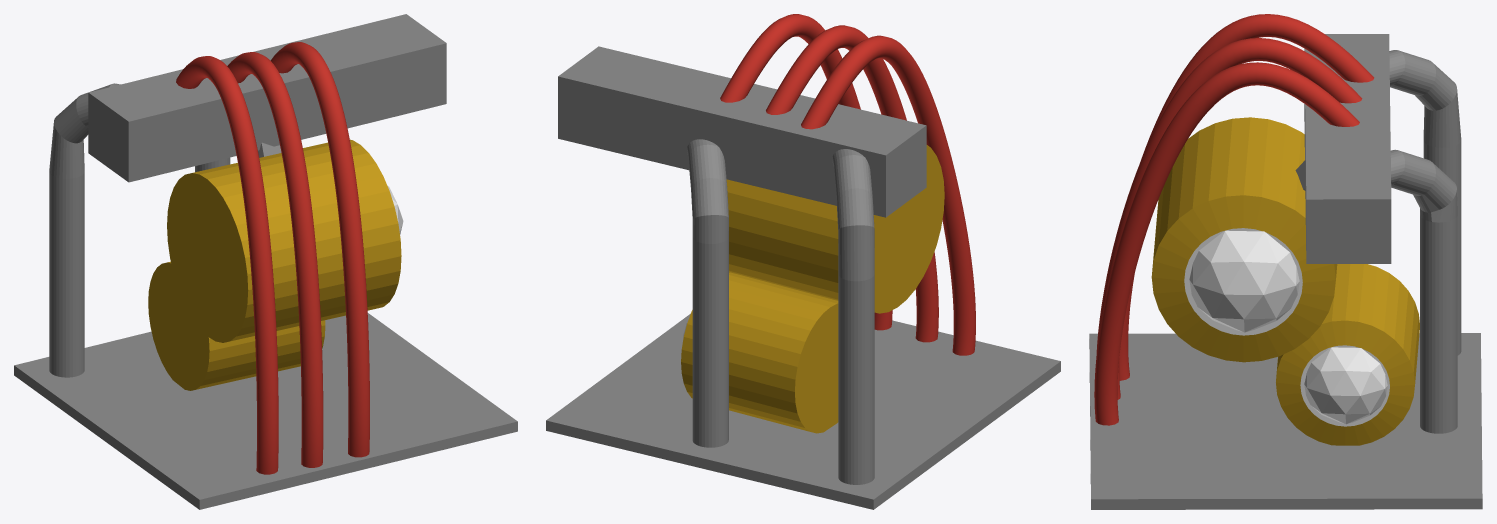
File: PowerGenlevel3.fbx
The picture shows the model from 3 angles, left to right: view 1: azimuth 30°, elevation 25°; view 2: azimuth 150°, elevation 25°; view 3: azimuth 270°, elevation 25°; orthographic projection. The views are drawn at different scales.
Parts seen in each view (by area): view 1: Cube, Cube.001, Cylinder.001, NurbsPath.002, NurbsPath, NurbsPath.001, Cylinder; view 2: Cube, Cube.001, Cylinder.001, Cylinder, NurbsPath.002, NurbsPath.001, NurbsPath; view 3: Cube, Cylinder.001, Cylinder, Cube.001, NurbsPath, NurbsPath.001, NurbsPath.002.
Boxes of the visible parts, x1,y1,x2,y2 form: Cube: [14, 83, 517, 509]; Cube.001: [88, 14, 446, 182]; Cylinder.001: [167, 139, 403, 342]; NurbsPath.002: [176, 56, 278, 474]; NurbsPath: [270, 42, 369, 457]; NurbsPath.001: [227, 52, 323, 467]; Cylinder: [148, 261, 325, 390]; Cube: [546, 139, 1060, 509]; Cube.001: [558, 46, 926, 217]; Cylinder.001: [726, 145, 944, 313]; Cylinder: [681, 272, 838, 433]; NurbsPath.002: [801, 35, 975, 355]; NurbsPath.001: [766, 25, 938, 342]; NurbsPath: [720, 14, 892, 330]; Cube: [1089, 50, 1482, 509]; Cylinder.001: [1151, 117, 1337, 362]; Cylinder: [1276, 264, 1419, 445]; Cube.001: [1304, 34, 1391, 263]; NurbsPath: [1094, 62, 1359, 425]; NurbsPath.001: [1096, 38, 1362, 399]; NurbsPath.002: [1119, 14, 1374, 380].
Bounding box in the file's own units: 2.15 × 2.11 × 1.96.
